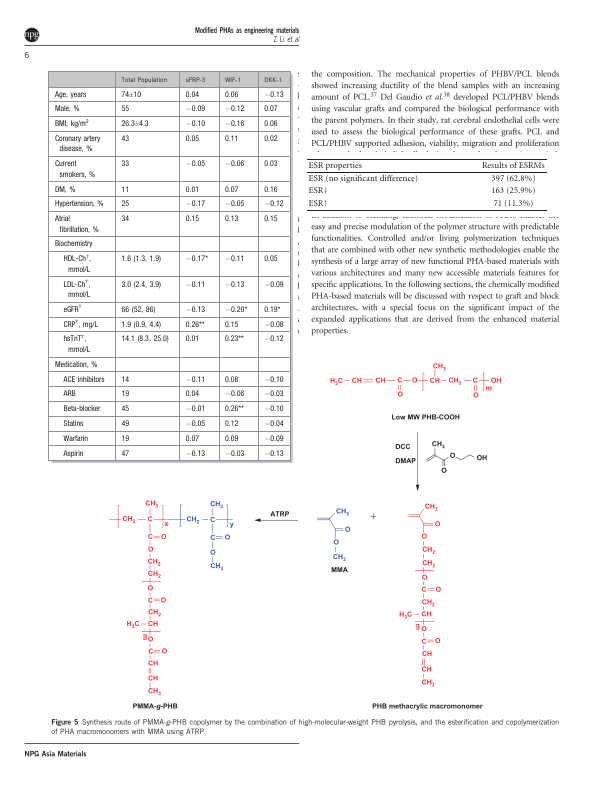bordered: (48, 69, 290, 460)
borderless: (305, 157, 547, 210)
cell: (307, 174, 419, 184), (53, 135, 101, 154), (53, 215, 99, 234), (53, 160, 96, 180), (481, 161, 546, 171), (62, 253, 91, 275), (62, 279, 91, 300), (62, 334, 91, 355), (307, 161, 363, 171), (492, 198, 534, 209), (490, 174, 536, 184), (490, 186, 536, 196), (53, 200, 104, 209), (120, 335, 169, 344), (53, 360, 98, 369), (53, 118, 89, 129), (62, 375, 105, 384), (120, 255, 162, 264), (120, 280, 162, 289), (120, 320, 162, 329), (120, 77, 167, 85), (53, 240, 93, 249), (120, 305, 156, 315), (62, 319, 98, 329), (62, 405, 101, 414), (53, 90, 87, 99), (120, 120, 149, 129), (223, 305, 248, 315), (53, 105, 80, 114), (62, 434, 89, 443), (307, 198, 329, 209), (62, 304, 82, 315), (184, 305, 206, 315), (62, 419, 84, 429), (184, 419, 206, 429), (307, 186, 329, 196), (184, 255, 208, 264), (263, 419, 284, 429), (53, 185, 76, 194), (120, 90, 142, 99), (184, 105, 206, 114), (223, 105, 245, 114), (184, 120, 206, 129), (223, 120, 245, 129), (184, 160, 206, 169), (223, 160, 245, 169), (184, 200, 206, 209), (223, 200, 245, 209), (223, 255, 245, 264), (184, 280, 206, 289), (223, 280, 245, 289), (184, 375, 206, 384), (223, 390, 245, 399), (184, 405, 206, 414), (62, 449, 84, 458), (184, 449, 206, 458), (223, 449, 245, 458), (263, 90, 284, 99), (263, 200, 284, 209), (263, 280, 284, 289), (184, 320, 205, 329), (263, 320, 284, 329), (223, 335, 244, 344), (263, 335, 284, 344), (263, 375, 284, 384), (263, 390, 284, 399), (223, 405, 244, 414), (263, 405, 284, 414), (263, 434, 284, 443), (263, 449, 284, 458), (263, 305, 281, 315), (184, 77, 206, 85), (223, 419, 239, 429), (263, 77, 282, 85), (223, 77, 241, 85), (184, 90, 200, 99), (223, 90, 239, 99), (184, 135, 200, 144), (223, 135, 239, 144), (184, 185, 200, 194), (223, 185, 239, 194), (184, 215, 200, 224), (223, 215, 239, 224), (223, 320, 239, 329), (184, 335, 200, 344), (223, 375, 239, 384), (184, 390, 200, 399), (184, 434, 200, 443), (223, 434, 239, 443), (263, 105, 278, 114), (263, 120, 278, 129), (263, 135, 278, 144), (263, 160, 278, 169), (263, 185, 278, 194), (263, 215, 278, 224), (263, 255, 278, 264), (62, 390, 76, 399), (120, 419, 130, 429), (120, 105, 130, 114), (120, 135, 130, 144), (120, 160, 130, 169), (120, 185, 130, 194), (120, 200, 130, 209), (120, 215, 130, 224), (120, 375, 130, 384), (120, 390, 130, 399), (120, 405, 130, 414), (120, 434, 130, 443), (120, 449, 130, 458)
